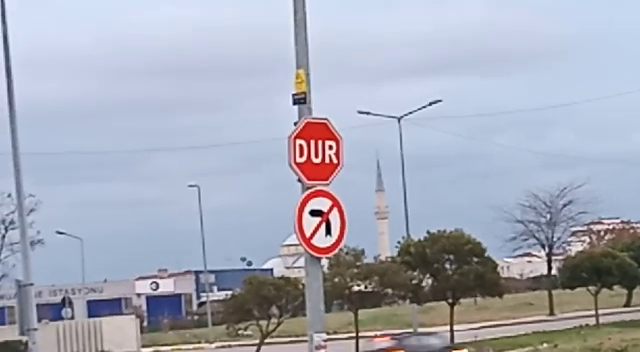no_left: (293, 185, 349, 260)
stop: (284, 114, 346, 190)
